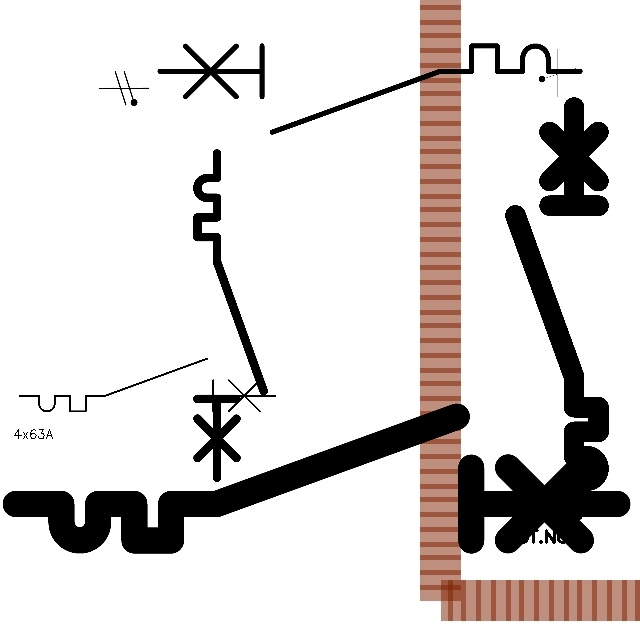interruptor_termomagnetico: (0, 401, 633, 556), (149, 35, 591, 143), (505, 97, 609, 522), (189, 145, 272, 486), (13, 352, 282, 418)
